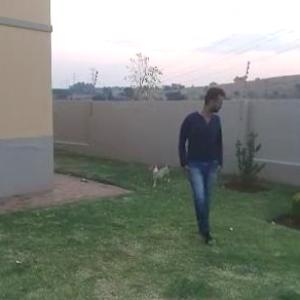follow: (174, 79, 215, 230)
